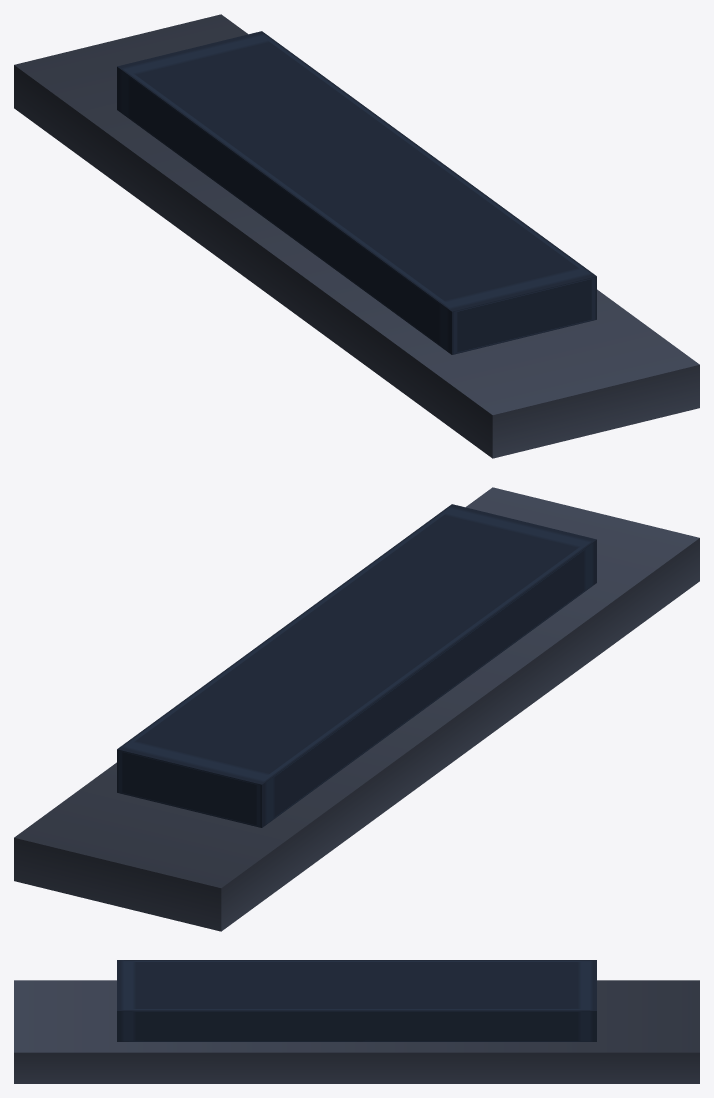
File: KIT_Bridge_2x8.glb
3 views of the same model, one above another, from view 1: azimuth 30°, elevation 25°; view 2: azimuth 150°, elevation 25°; view 3: azimuth 270°, elevation 25° (orthographic). The views are drawn at different scales.
Parts seen in each view (by area): view 1: KIT_Bridge_2x8; view 2: KIT_Bridge_2x8; view 3: KIT_Bridge_2x8.
Boxes of the visible parts, <box> form: KIT_Bridge_2x8: <box>14,14,699,458</box>; KIT_Bridge_2x8: <box>14,487,699,931</box>; KIT_Bridge_2x8: <box>14,960,699,1083</box>.
Bounding box in the file's own units: 2 × 0.8 × 8.
1 material, 1 textured.
